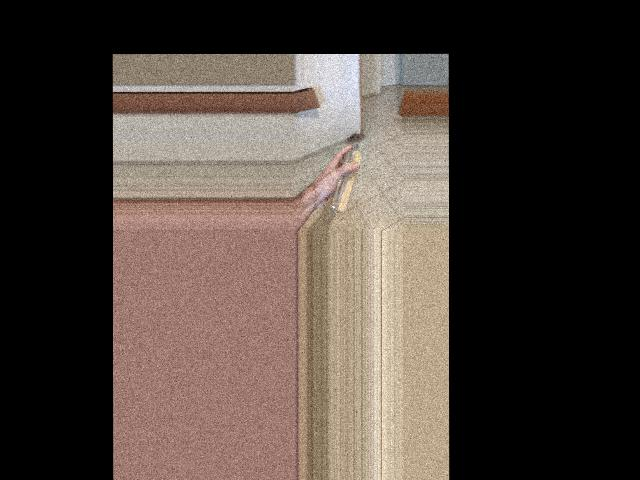cheese: (313, 140, 369, 206)
